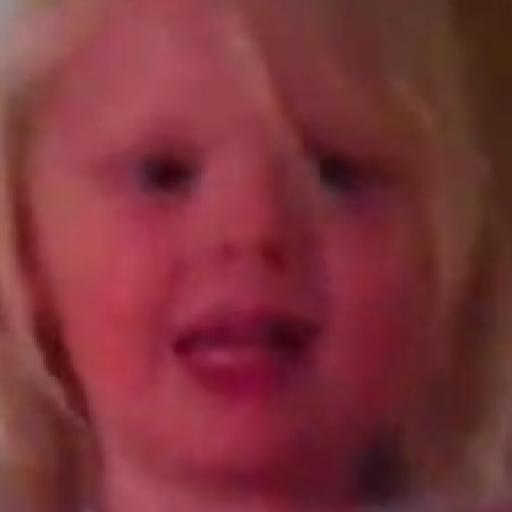Autism: (79, 44, 512, 511)
